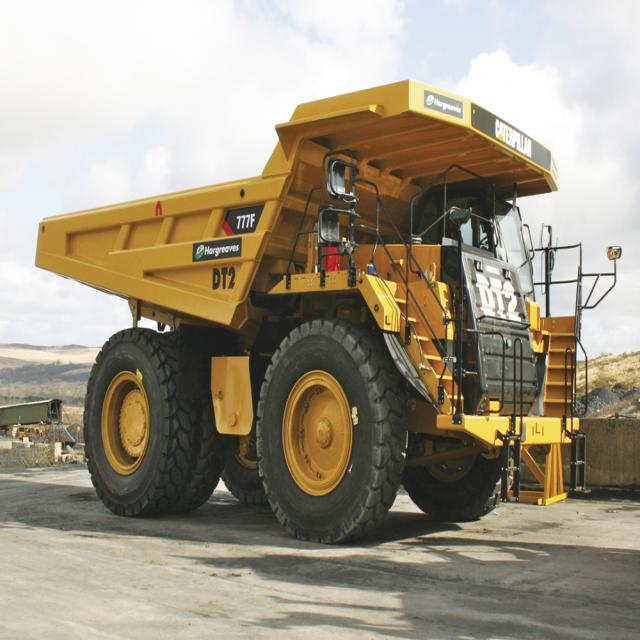dump_truck: (30, 72, 592, 543)
